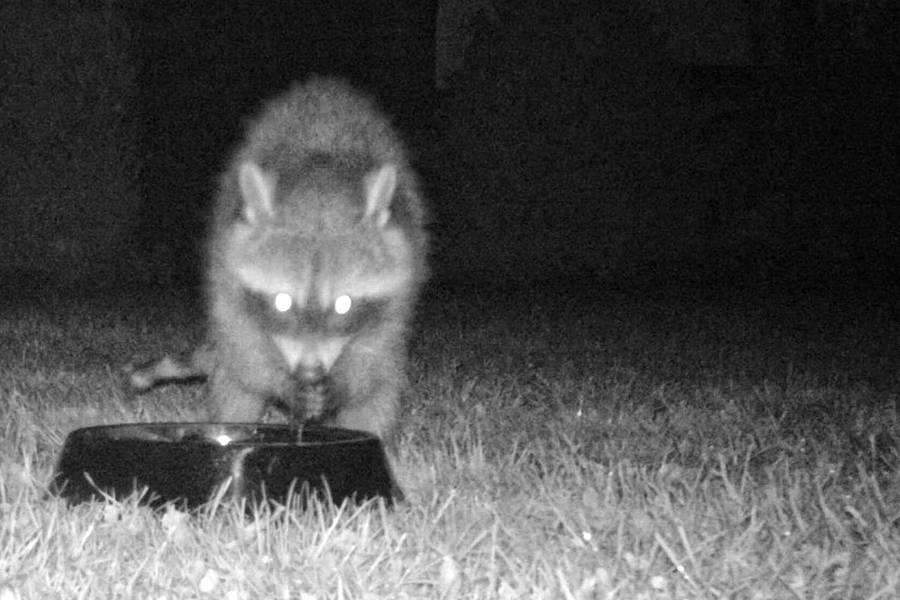raccoon: (176, 60, 447, 471)
